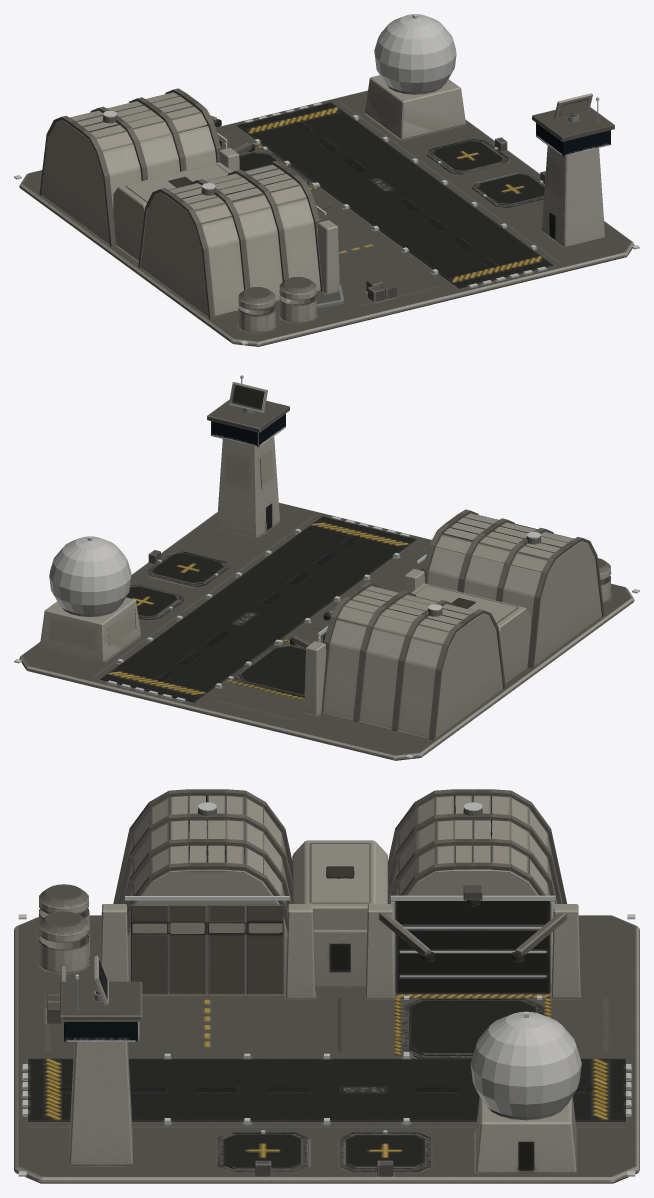
File: ord_advairfield.fbx
3 renders of one model, top to bottom at view 1: azimuth 30°, elevation 25°; view 2: azimuth 150°, elevation 25°; view 3: azimuth 270°, elevation 25°, orthographic. The views are drawn at different scales.
Visible parts, largest first — view 1: base_bar, base_glow_running_bar, radarPanel_bar; view 2: base_bar, base_glow_running_bar, radarPanel_bar; view 3: base_bar, base_glow_running_bar, base_glow_power_bar.
Part boxes in pixels (x1,y1,x2,y2): base_bar: [19, 14, 634, 346]; base_glow_running_bar: [14, 14, 639, 344]; radarPanel_bar: [554, 93, 592, 119]; base_bar: [19, 378, 634, 760]; base_glow_running_bar: [14, 375, 639, 758]; radarPanel_bar: [229, 382, 267, 413]; base_bar: [14, 789, 639, 1183]; base_glow_running_bar: [18, 896, 635, 1176]; base_glow_power_bar: [89, 802, 555, 995].
Size of the model in its own units: 4713 by 1808 by 4713.
Materials: 2 (2 with a texture image).
